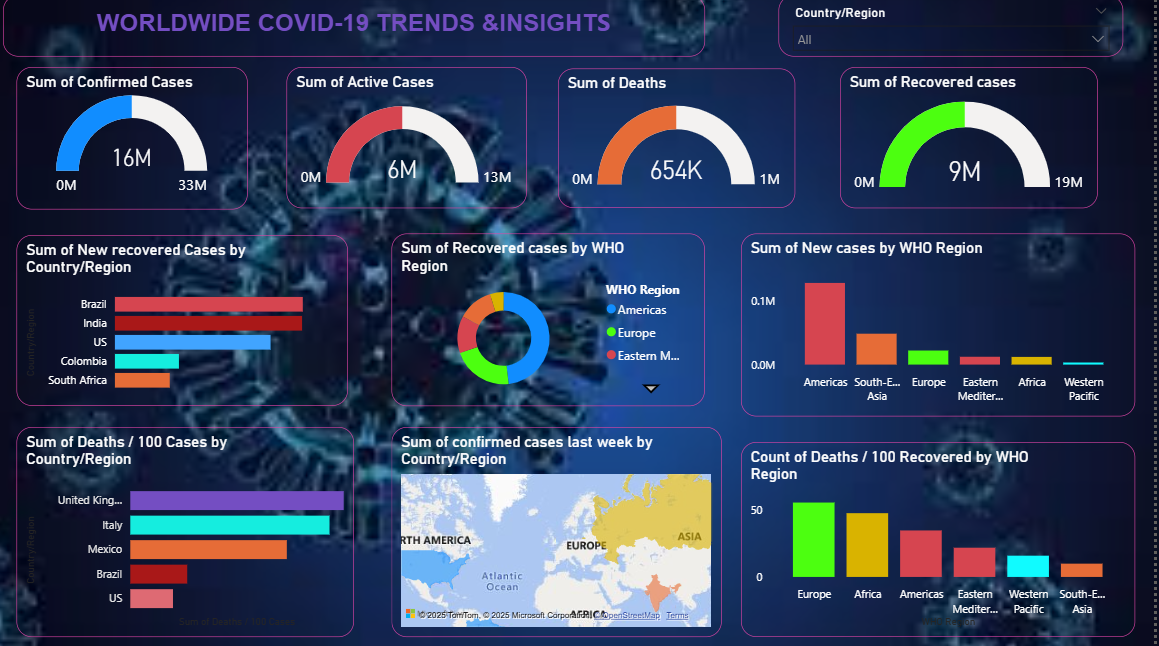

The dashboard page shown, as its layout file describes it:
{"tool":"powerbi","page":{"name":"Page 1","canvas":[1280,720],"ordinal":0},"visuals":[{"type":"textbox","box":[9.9,0,775.2,67.9],"z":0},{"type":"slicer","fields":{"Values":["country_wise_latest.Country/Region"]},"box":[866.3,0,381,67.9],"z":1000},{"type":"gauge","fields":{"Y":["Sum(country_wise_latest.Confirmed)"]},"box":[24.8,79.5,255.1,157.4],"z":2000},{"type":"gauge","fields":{"Y":["Sum(country_wise_latest.Active)"]},"box":[323,79.5,265,155.7],"z":3000},{"type":"gauge","fields":{"Y":["Sum(country_wise_latest.Deaths)"]},"box":[622.8,81.2,261.7,154.1],"z":4000},{"type":"gauge","fields":{"Y":["Sum(country_wise_latest.Recovered)"]},"box":[934.3,79.5,284.9,155.7],"z":5000},{"type":"columnChart","fields":{"Category":["country_wise_latest.WHO Region"],"Y":["Sum(country_wise_latest.New cases)"]},"box":[824.9,263.4,435.7,202.1],"z":6000},{"type":"columnChart","fields":{"Category":["country_wise_latest.WHO Region"],"Y":["CountNonNull(country_wise_latest.Deaths / 100 Recovered)"]},"box":[824.9,493.6,435.7,215.3],"z":7000},{"type":"donutChart","fields":{"Category":["country_wise_latest.WHO Region"],"Y":["Sum(country_wise_latest.Recovered)"]},"box":[439,263.4,346.2,190.5],"z":8000},{"type":"filledMap","fields":{"Category":["country_wise_latest.Country/Region"]},"box":[439,477.1,364.4,231.9],"z":9000},{"type":"barChart","fields":{"Y":["Sum(country_wise_latest.New recovered)"],"Category":["country_wise_latest.Country/Region"]},"box":[24.8,265,366.1,188.8],"z":10000},{"type":"barChart","fields":{"Category":["country_wise_latest.Country/Region"],"Y":["Sum(country_wise_latest.Deaths / 100 Cases)"]},"box":[24.8,477.1,372.7,231.9],"z":11000}]}

Visuals, with their boxes in screenshot pixels (x1, y1, x2, y2), scaled from the page's 1280x720 canvas onto the 1159x646 screenshot:
textbox: (9,0,711,61)
slicer - country_wise_latest.Country/Region: (784,0,1129,61)
gauge - Sum(country_wise_latest.Confirmed): (22,71,253,213)
gauge - Sum(country_wise_latest.Active): (292,71,532,211)
gauge - Sum(country_wise_latest.Deaths): (564,73,801,211)
gauge - Sum(country_wise_latest.Recovered): (846,71,1104,211)
columnChart - country_wise_latest.WHO Region x Sum(country_wise_latest.New cases): (747,236,1141,418)
columnChart - country_wise_latest.WHO Region x CountNonNull(country_wise_latest.Deaths / 100 Recovered): (747,443,1141,636)
donutChart - country_wise_latest.WHO Region x Sum(country_wise_latest.Recovered): (398,236,711,407)
filledMap - country_wise_latest.Country/Region: (398,428,727,636)
barChart - Sum(country_wise_latest.New recovered) x country_wise_latest.Country/Region: (22,238,354,407)
barChart - country_wise_latest.Country/Region x Sum(country_wise_latest.Deaths / 100 Cases): (22,428,360,636)
